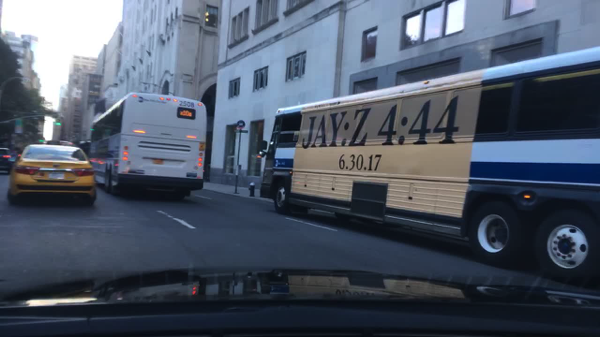bus: (258, 45, 599, 286), (89, 91, 208, 203)
car: (8, 141, 98, 208), (0, 148, 15, 174), (76, 141, 92, 157), (13, 151, 23, 159)
traffic light: (55, 116, 61, 126)
traffic sign: (235, 120, 247, 130), (233, 130, 248, 133)
